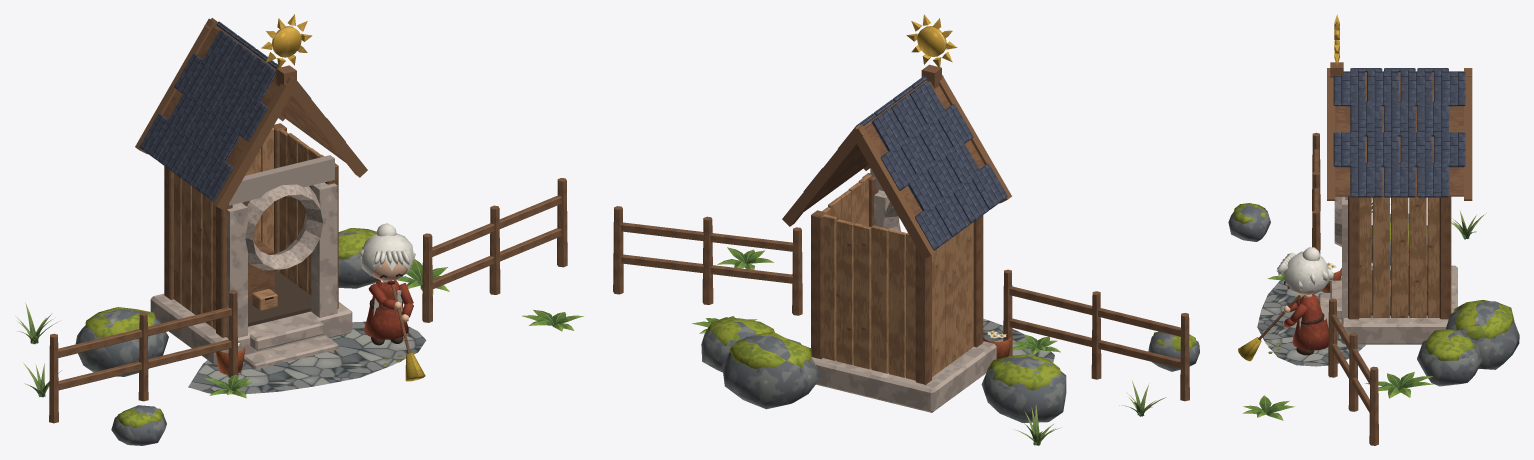
The model's file is ev13_chapel.glb.
The picture shows the model from 3 angles, left to right: view 1: azimuth 30°, elevation 25°; view 2: azimuth 150°, elevation 25°; view 3: azimuth 270°, elevation 25°; orthographic projection. The views are drawn at different scales.
Visible parts, largest first — view 1: ev13_chapel_chapel, ev13_chapel_ground_details, ev13_chapel_roof, ev13_chapel_caretaker, ev13_chapel_plants, ev13_chapel_props; view 2: ev13_chapel_chapel, ev13_chapel_ground_details, ev13_chapel_roof, ev13_chapel_plants; view 3: ev13_chapel_roof, ev13_chapel_chapel, ev13_chapel_ground_details, ev13_chapel_caretaker, ev13_chapel_plants.
Boxes of the visible parts, x1,y1,x2,y2 form: ev13_chapel_chapel: (150,123,352,369); ev13_chapel_ground_details: (49,178,567,445); ev13_chapel_roof: (135,14,367,210); ev13_chapel_caretaker: (359,223,425,381); ev13_chapel_plants: (15,259,583,398); ev13_chapel_props: (215,289,277,374); ev13_chapel_chapel: (811,167,996,412); ev13_chapel_ground_details: (613,206,1199,422); ev13_chapel_roof: (782,14,1011,259); ev13_chapel_plants: (692,247,1166,445); ev13_chapel_roof: (1327,14,1472,200); ev13_chapel_chapel: (1318,196,1457,344); ev13_chapel_ground_details: (1228,132,1519,445); ev13_chapel_caretaker: (1238,247,1333,361); ev13_chapel_plants: (1242,197,1484,420).
Size of what is drawn, in the model's own units: 6.77 by 4.12 by 3.49.
26 materials, 26 textured.
